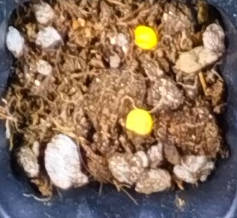pepper seed: (48, 40, 202, 176), (54, 0, 213, 50)
